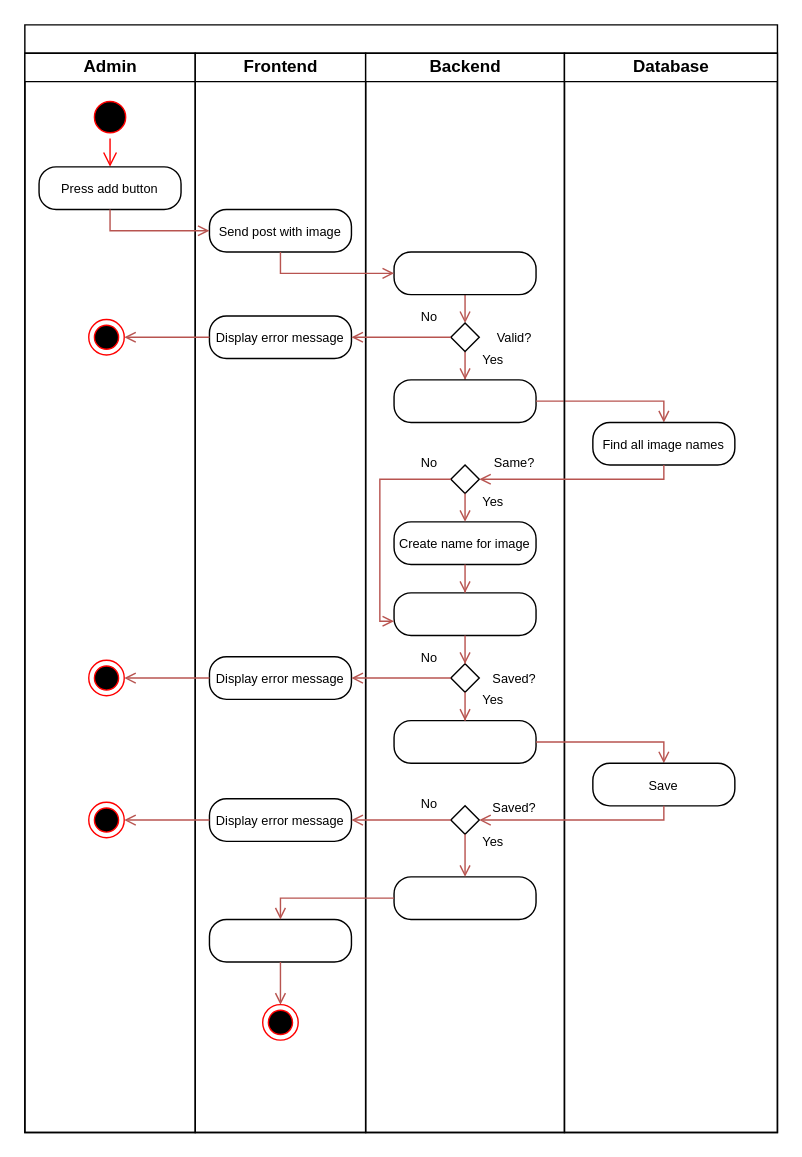
This 802x1157 diagram has some shape labels left out. The shapes that lost their labels are listed below. From the top down, each one's box as (x1, y1, x2, y2) in pixels, then its label:
(393, 251, 536, 295): Check is image valid
(393, 378, 536, 422): Check is image with same name
(393, 591, 536, 635): Save image to server
(393, 719, 536, 763): Save matadata
(393, 875, 536, 919): Send response
(208, 918, 351, 962): Redner image
